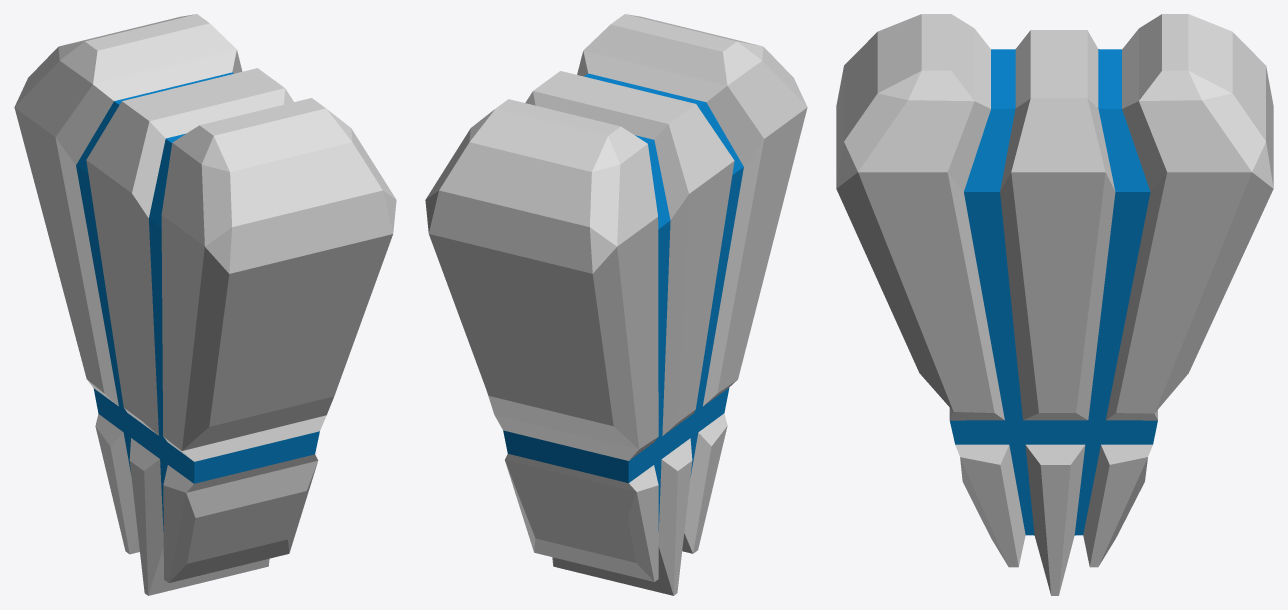
File: Powerup2.fbx
3 views of the same model, side by side, from view 1: azimuth 30°, elevation 25°; view 2: azimuth 150°, elevation 25°; view 3: azimuth 270°, elevation 25° (orthographic). The views are drawn at different scales.
Parts seen in each view (by area): view 1: Cube; view 2: Cube; view 3: Cube.
Boxes of the visible parts, box(x1,y1,x2,y2) form: Cube: box(14, 14, 396, 595); Cube: box(425, 14, 807, 595); Cube: box(836, 14, 1273, 595).
Bounding box in the file's own units: 2 × 5.04 × 3.82.
